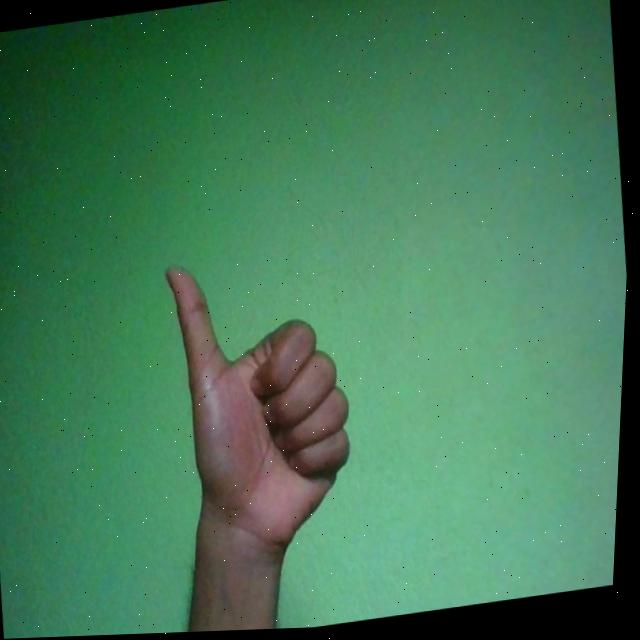Good Job: (154, 242, 373, 569)
